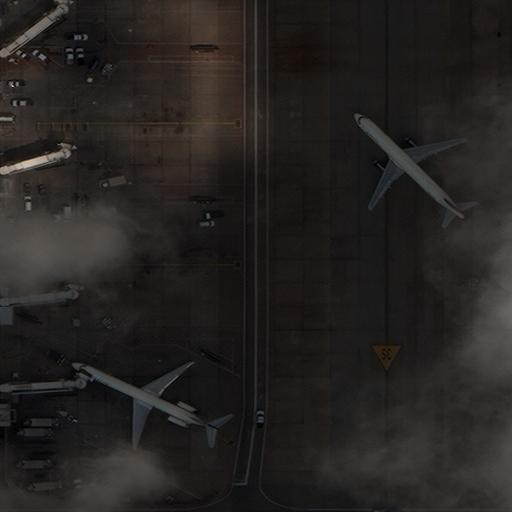Medium Civil Transport: (68, 360, 220, 446), (351, 111, 466, 221)
